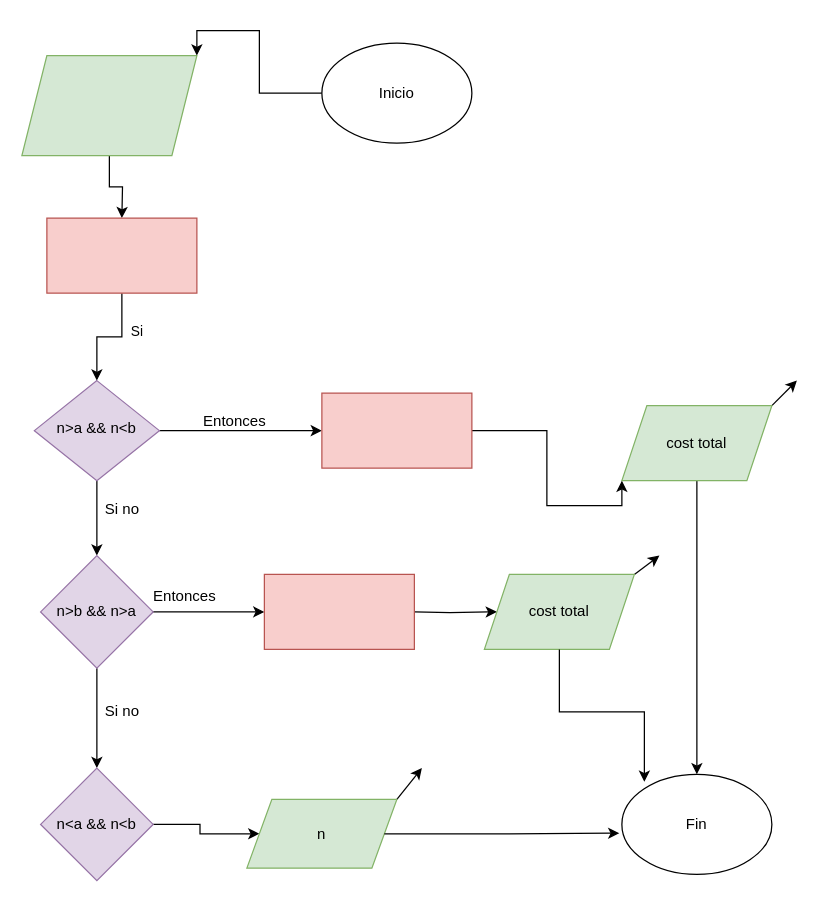
The diagram is 829 pixels wide and 903 high, and some of its shapes have lost their labels. Here are the shapes that lost their labels. From the top down, the centre of each, then its label:
pixel 109 105: double n double a double b double x double y
pixel 121 255: double desc double cost_total double cost_normal double desc_especial
pixel 396 430: desc=n*x/100 cost_total=n-desc
pixel 338 611: desc=n*y/100 cost_total=n-desc
